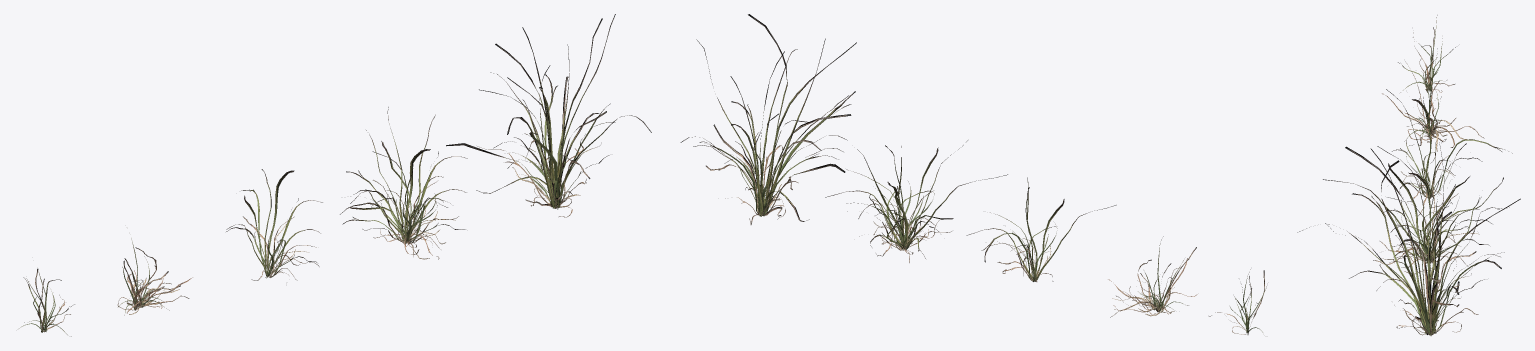
The model's file is grass_medium_02.glb.
3 renders of one model, left to right at view 1: azimuth 30°, elevation 25°; view 2: azimuth 150°, elevation 25°; view 3: azimuth 270°, elevation 25°, orthographic. The views are drawn at different scales.
Visible parts, largest first — view 1: grass_medium_02_a; view 2: grass_medium_02_a; view 3: grass_medium_02_a.
Boxes of the visible parts, box(x1,y1,x2,y2) form: grass_medium_02_a: box(19, 14, 651, 336); grass_medium_02_a: box(680, 14, 1266, 334); grass_medium_02_a: box(1297, 15, 1520, 335).
Size of the model in its own units: 1.31 by 0.4053 by 0.4332.
1 material, 1 textured.
